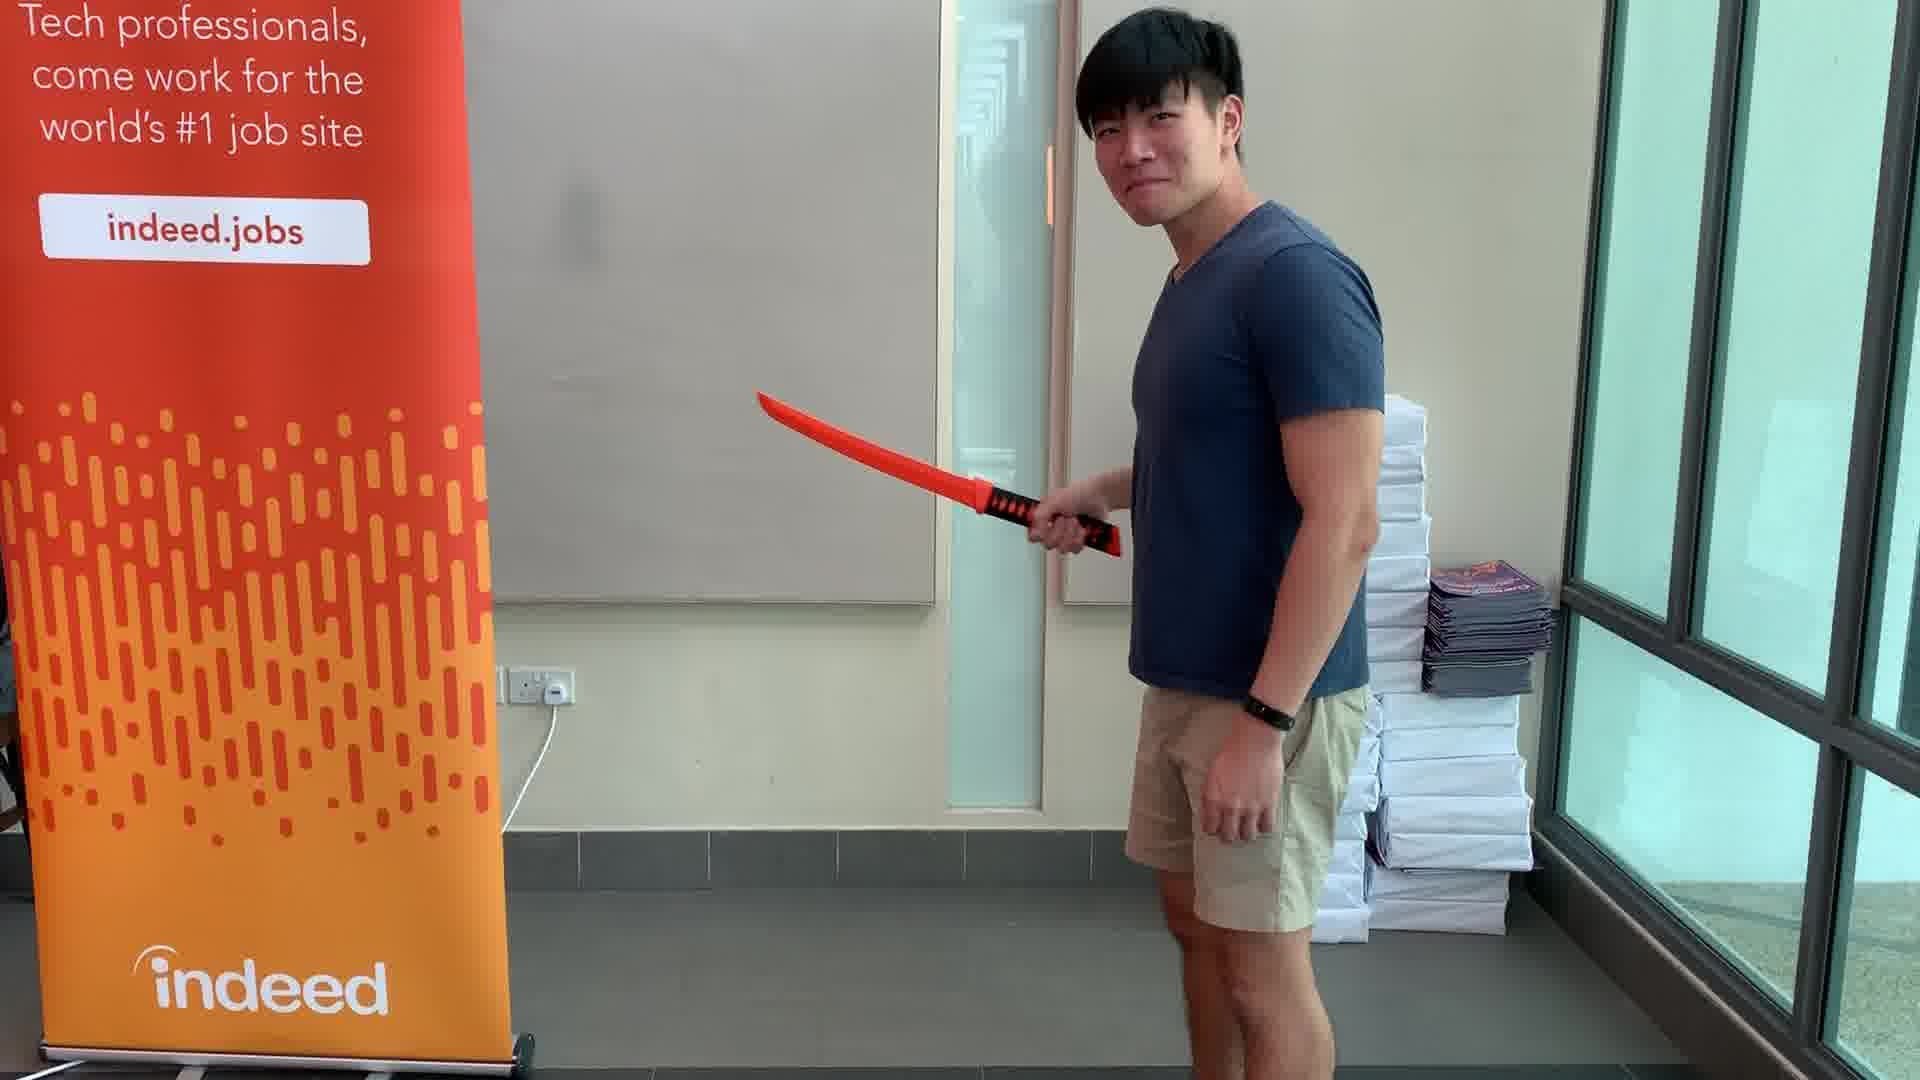knife: (744, 377, 1133, 556)
